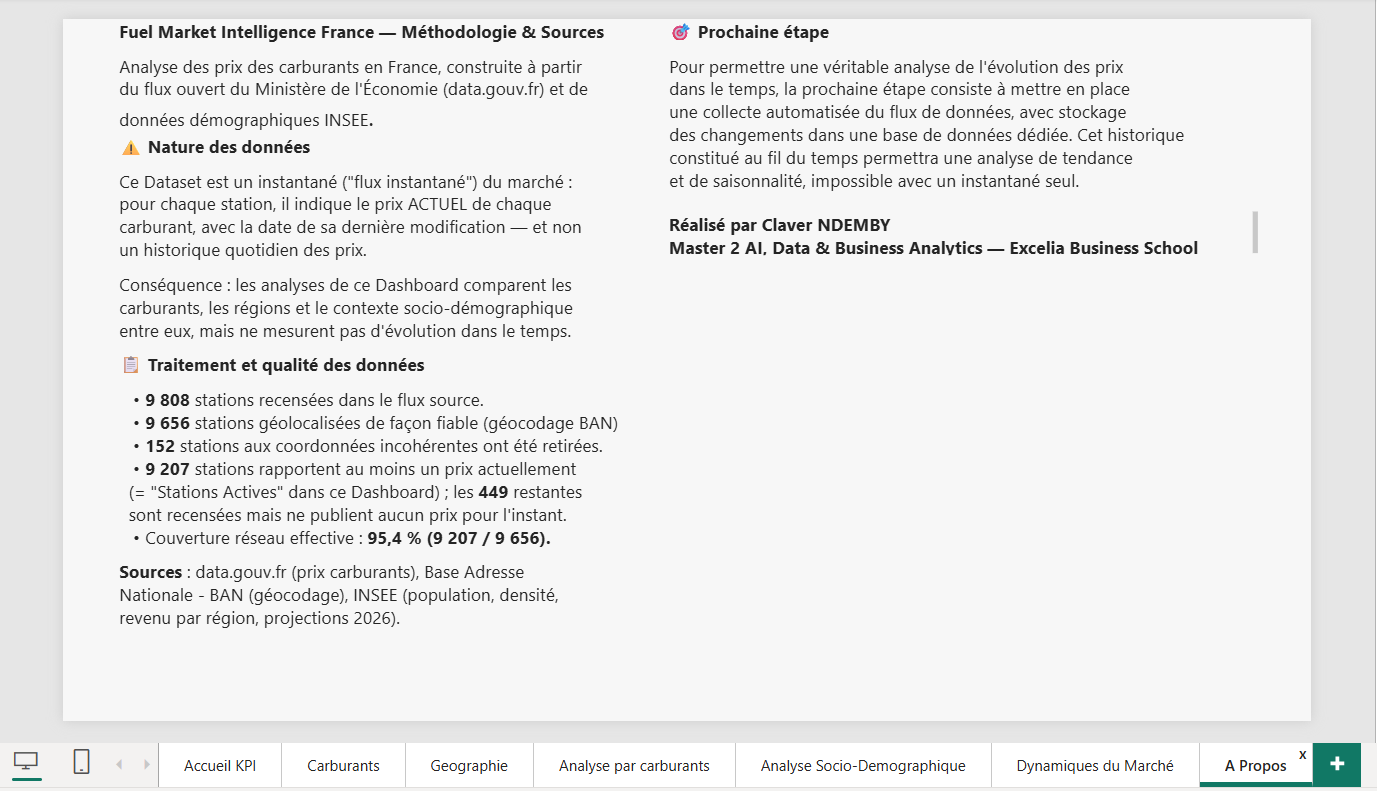

The dashboard page shown, as its layout file describes it:
{"tool":"powerbi","page":{"name":"A Propos","canvas":[1920,1080],"ordinal":6},"visuals":[{"type":"textbox","box":[86.5,0,794.2,280.8],"z":0},{"type":"textbox","box":[86.5,176.9,803.8,336.5],"z":1},{"type":"textbox","box":[86.5,513.5,803.8,546.2],"z":2},{"type":"textbox","box":[932.7,296.2,905.8,67.3],"z":3},{"type":"textbox","box":[932.7,0,921.2,280.8],"z":4}]}

Visuals, with their boxes on the page's 1920x1080 design canvas (x1, y1, x2, y2). These are canvas units, not pixel positions in the 1377x791 screenshot, which may show the page scaled, cropped or inside an application window:
textbox: 86, 0, 881, 281
textbox: 86, 177, 890, 513
textbox: 86, 514, 890, 1060
textbox: 933, 296, 1838, 364
textbox: 933, 0, 1854, 281
